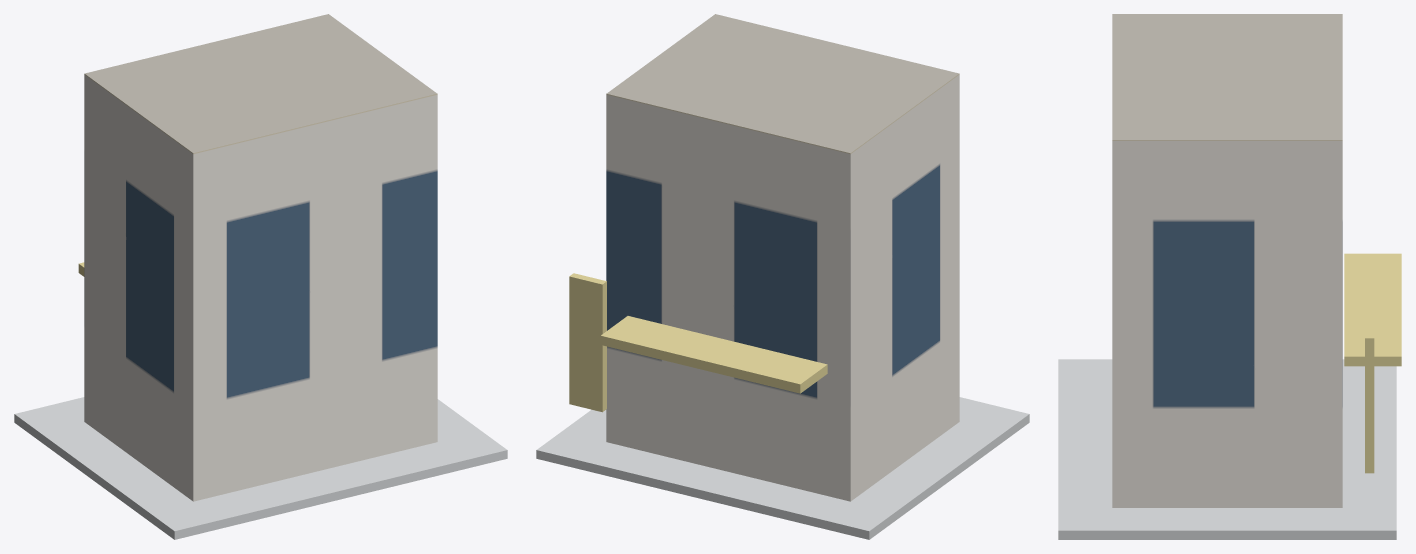
The model's file is Area_bakery.glb.
3 renders of one model, left to right at view 1: azimuth 30°, elevation 25°; view 2: azimuth 150°, elevation 25°; view 3: azimuth 270°, elevation 25°, orthographic. The views are drawn at different scales.
Visible parts, largest first — view 1: bldg_bakery, platform.004; view 2: bldg_bakery, platform.004, awning.002, vsign.002; view 3: bldg_bakery, platform.004, awning.002, vsign.002.
Boxes of the visible parts, x1=… form: bldg_bakery: x1=84, y1=14, x2=437, y2=501; platform.004: x1=14, y1=397, x2=507, y2=539; bldg_bakery: x1=606, y1=14, x2=959, y2=501; platform.004: x1=536, y1=397, x2=1029, y2=539; awning.002: x1=600, y1=316, x2=827, y2=393; vsign.002: x1=569, y1=273, x2=606, y2=412; bldg_bakery: x1=1112, y1=14, x2=1342, y2=507; platform.004: x1=1058, y1=359, x2=1396, y2=539; awning.002: x1=1344, y1=253, x2=1401, y2=366; vsign.002: x1=1365, y1=321, x2=1374, y2=473.
Bounding box in the file's own units: 6 × 6.15 × 5.07.
4 materials, 1 textured.
